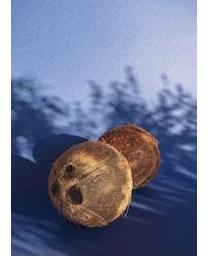coconut: (47, 141, 132, 233), (99, 128, 163, 187)
